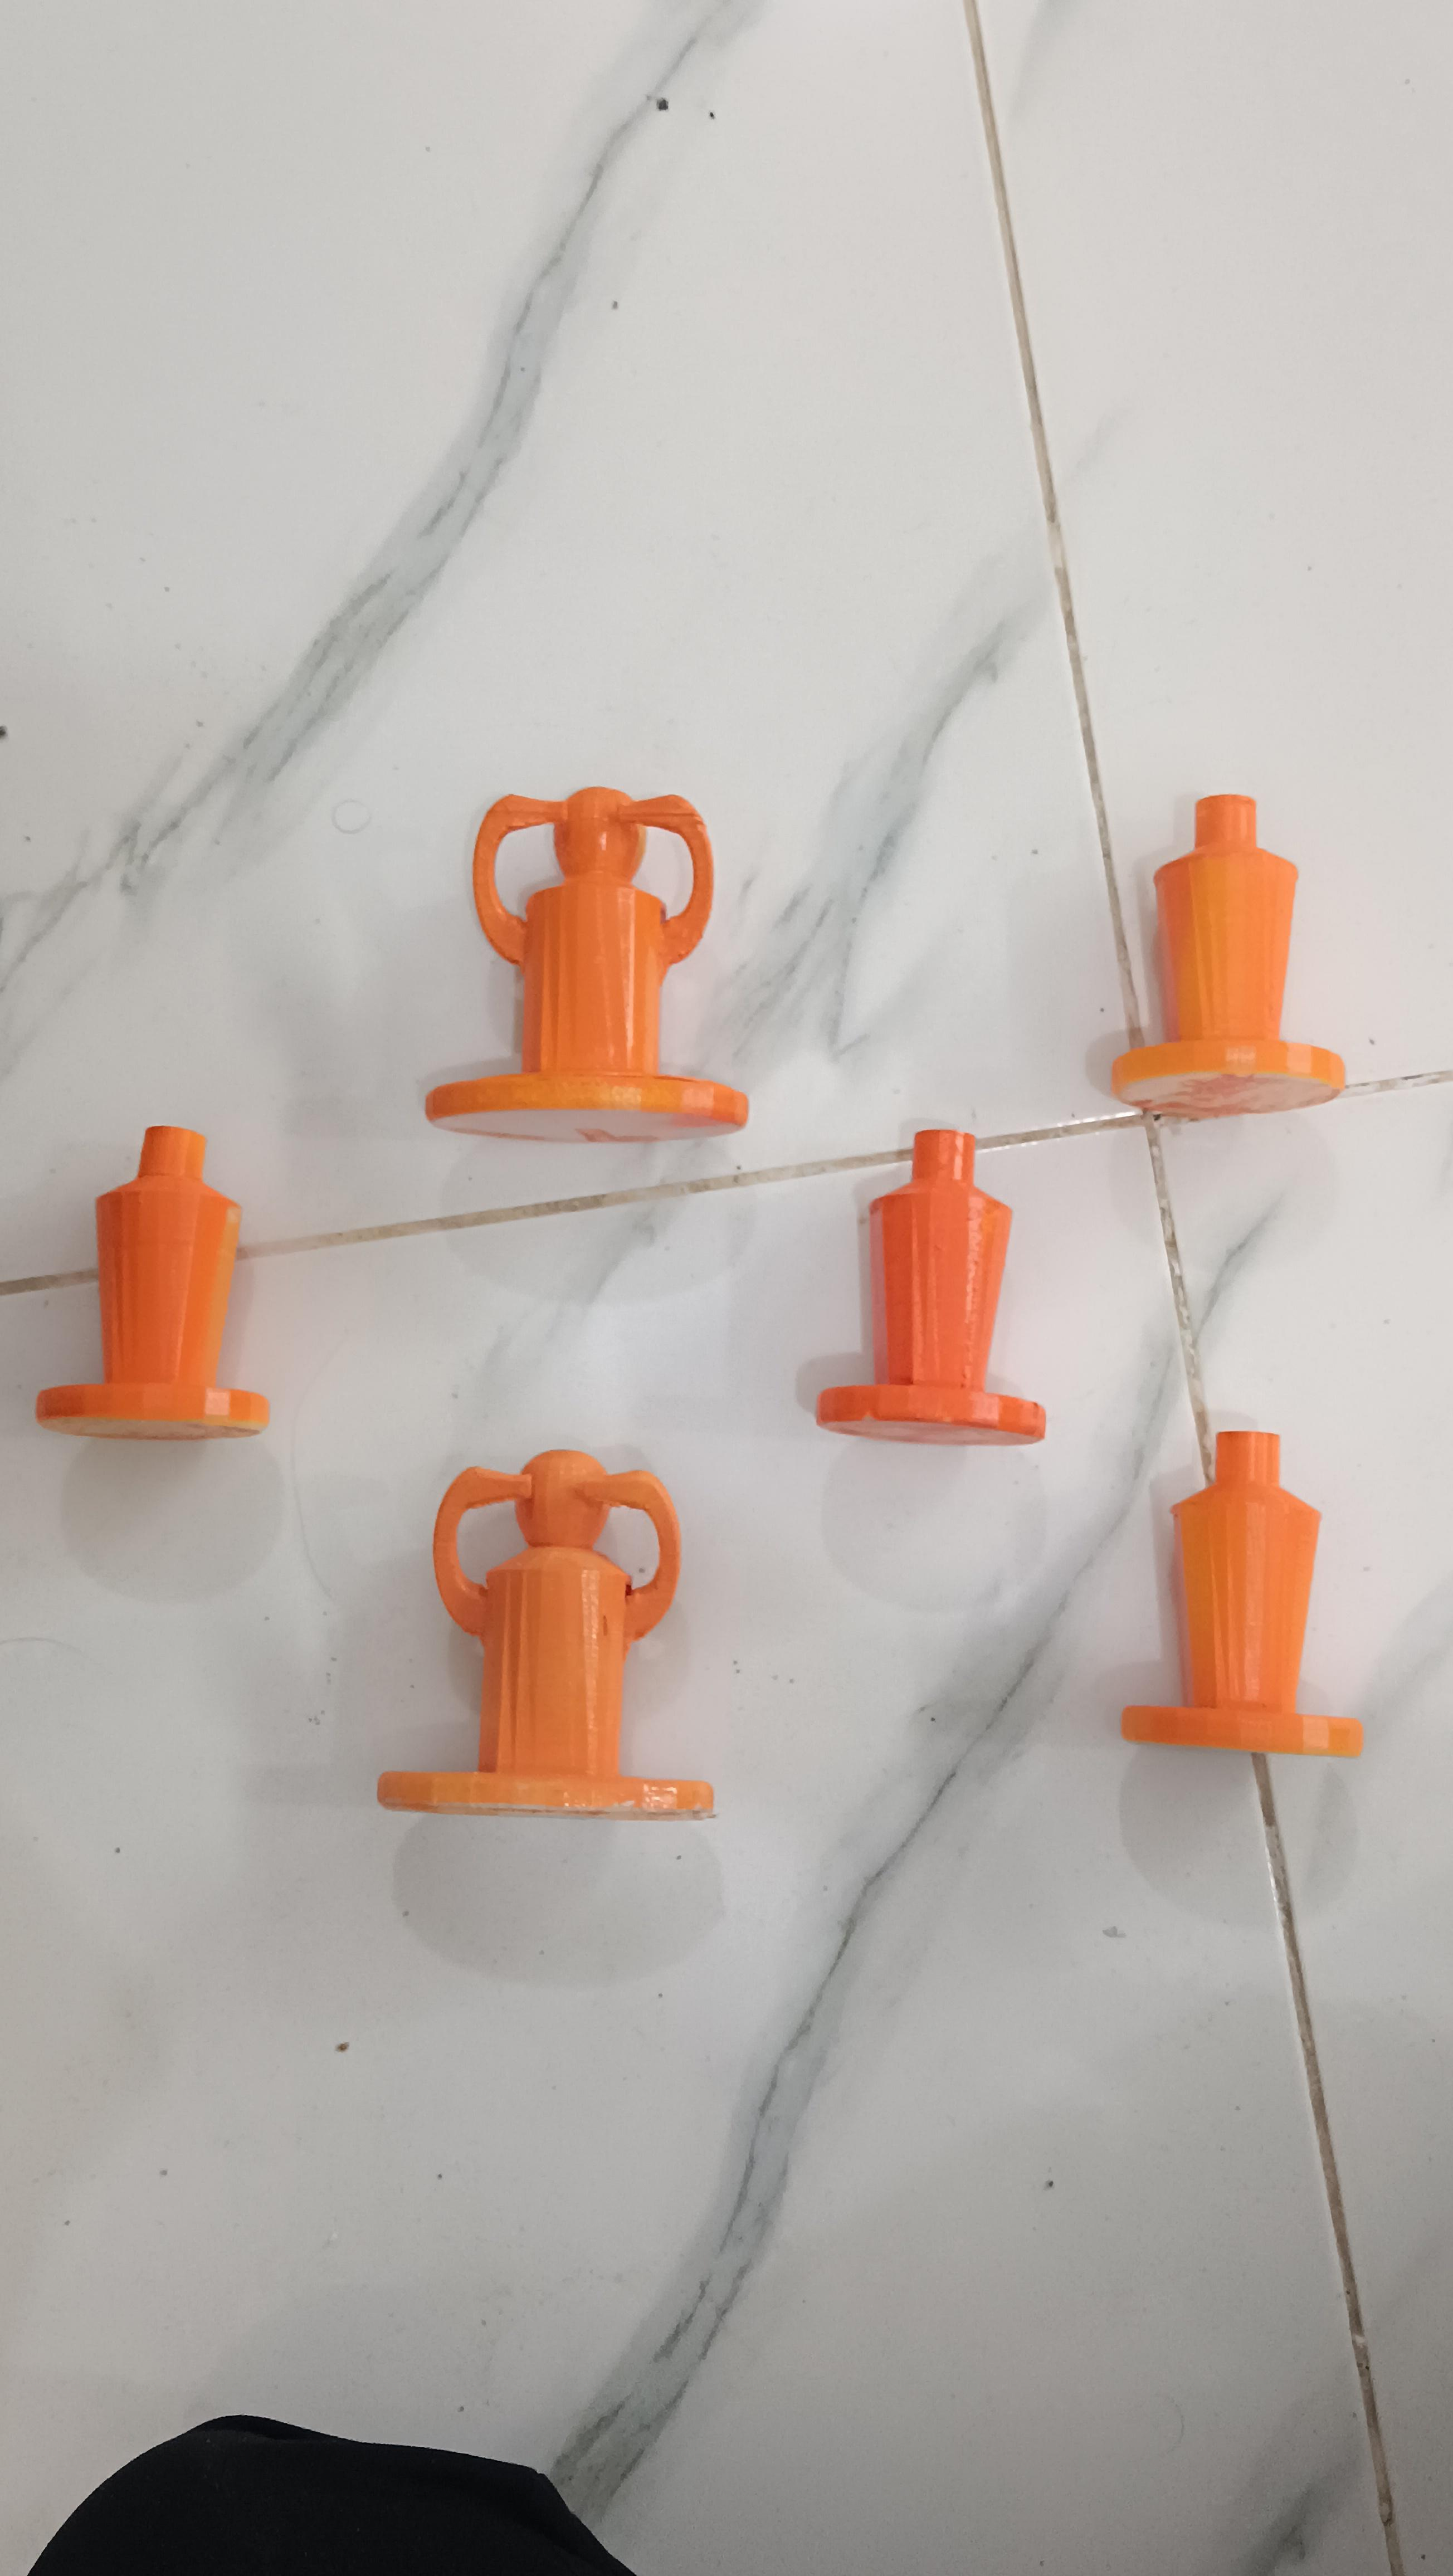dummy: (1111, 1418, 1415, 1801), (22, 1075, 298, 1479), (1092, 769, 1375, 1138), (813, 1097, 1074, 1483)
real_person: (358, 1409, 737, 1879), (421, 744, 786, 1184)
